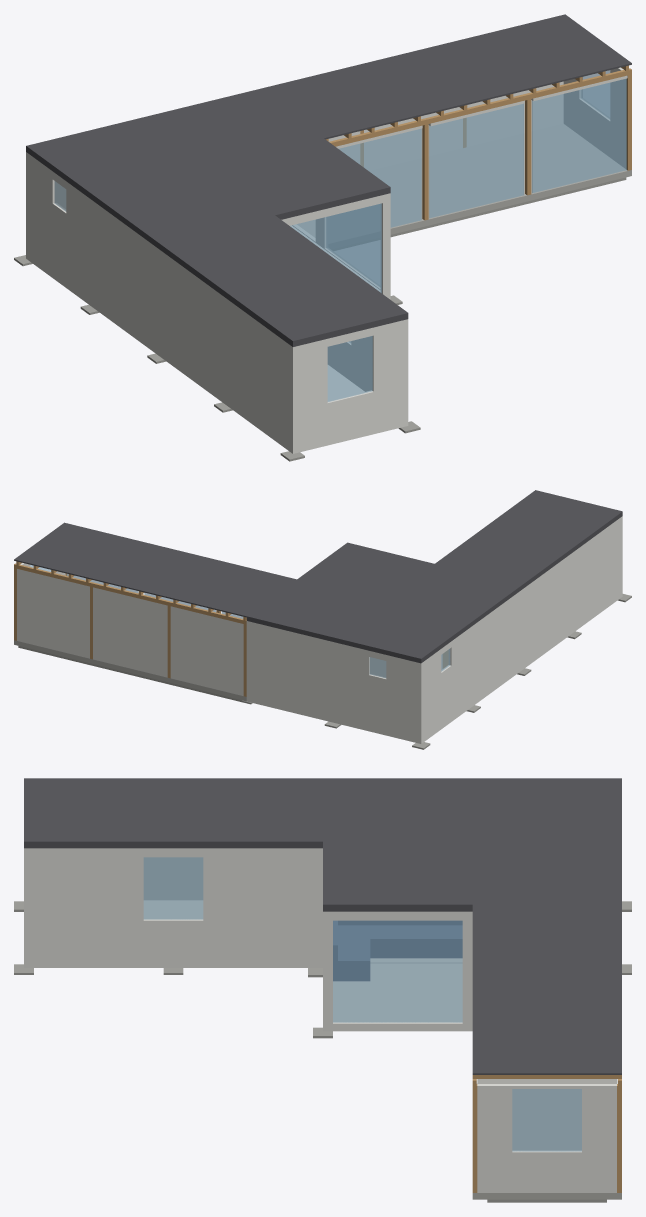
Rendered from summer-house.glb.
The picture shows the model from 3 angles, top to bottom: view 1: azimuth 30°, elevation 25°; view 2: azimuth 150°, elevation 25°; view 3: azimuth 270°, elevation 25°; orthographic projection. The views are drawn at different scales.
Parts seen in each view (by area): view 1: roof, panel, glass, slab, timber, concrete; view 2: panel, roof, timber, slab, concrete, glass; view 3: roof, panel, glass, slab, fabric, timber, concrete.
Boxes of the visible parts, bbox=[...] form: roof: bbox=[26, 14, 631, 346]; panel: bbox=[26, 67, 627, 453]; glass: bbox=[54, 70, 626, 401]; slab: bbox=[297, 124, 631, 248]; timber: bbox=[326, 65, 631, 220]; concrete: bbox=[14, 177, 626, 461]; panel: bbox=[17, 516, 622, 743]; roof: bbox=[14, 490, 622, 663]; timber: bbox=[14, 561, 448, 696]; slab: bbox=[14, 640, 246, 701]; concrete: bbox=[18, 594, 631, 749]; glass: bbox=[30, 565, 450, 678]; roof: bbox=[24, 778, 621, 1074]; panel: bbox=[24, 848, 617, 1192]; glass: bbox=[143, 857, 581, 1151]; slab: bbox=[472, 1079, 621, 1199]; fabric: bbox=[333, 921, 462, 980]; timber: bbox=[472, 1075, 621, 1192]; concrete: bbox=[14, 901, 631, 1202].
Size of the model in its own units: 14.2 by 2.86 by 12.4.
